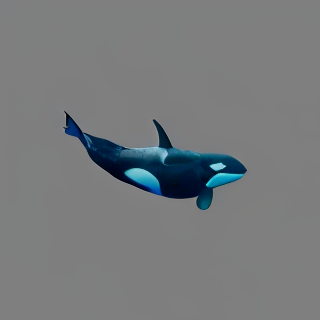Orca whale: (59, 107, 249, 213)
